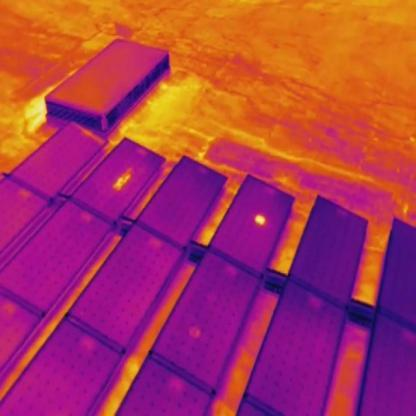anomaly: (112, 170, 130, 193), (253, 212, 271, 229)
